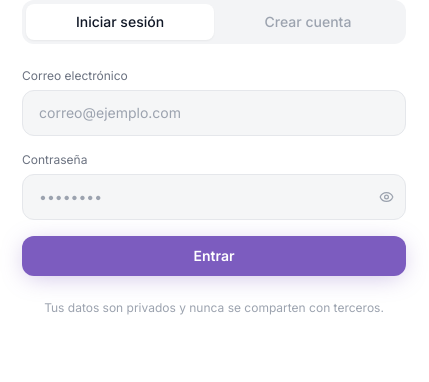
Test case: AuthModal › shows error alert when login fails
The width and height of the screenshot is (429, 382).
In the field labelled "Correo electrónico": (214, 113) [22,90,406,136], type "bad@example.com"
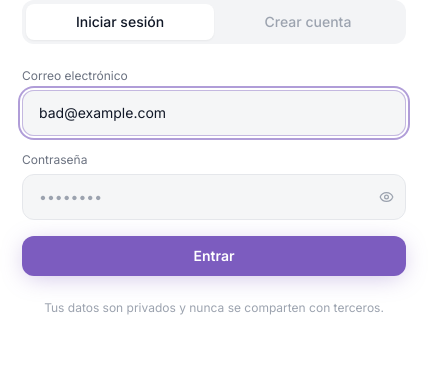
In the password field with placeholder "••••••••": (214, 197) [22,174,406,220], type "wrong"
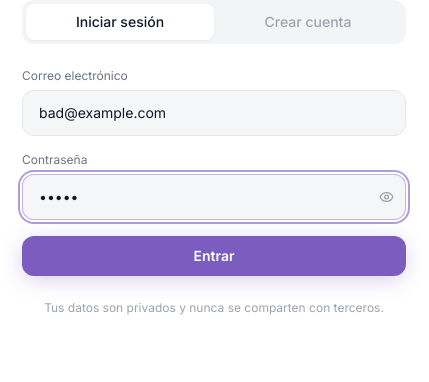
Click the button "Entrar": (214, 256) [22,236,406,276]
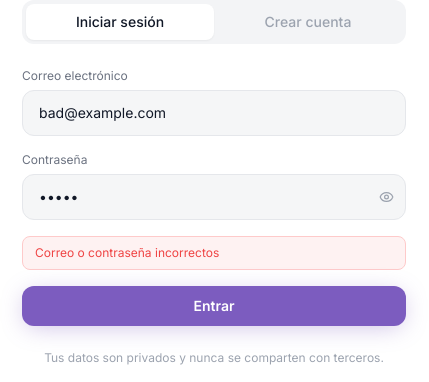
Now the message "Correo o contraseña incorrectos" is shown, box [22,236,406,270]
